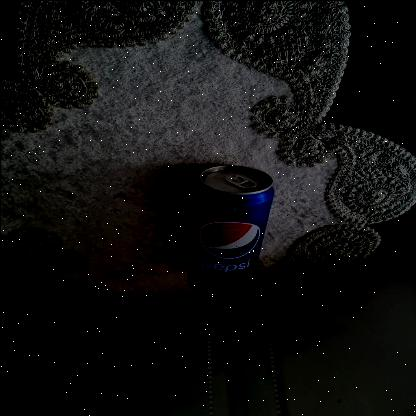Can: (172, 154, 278, 306)
